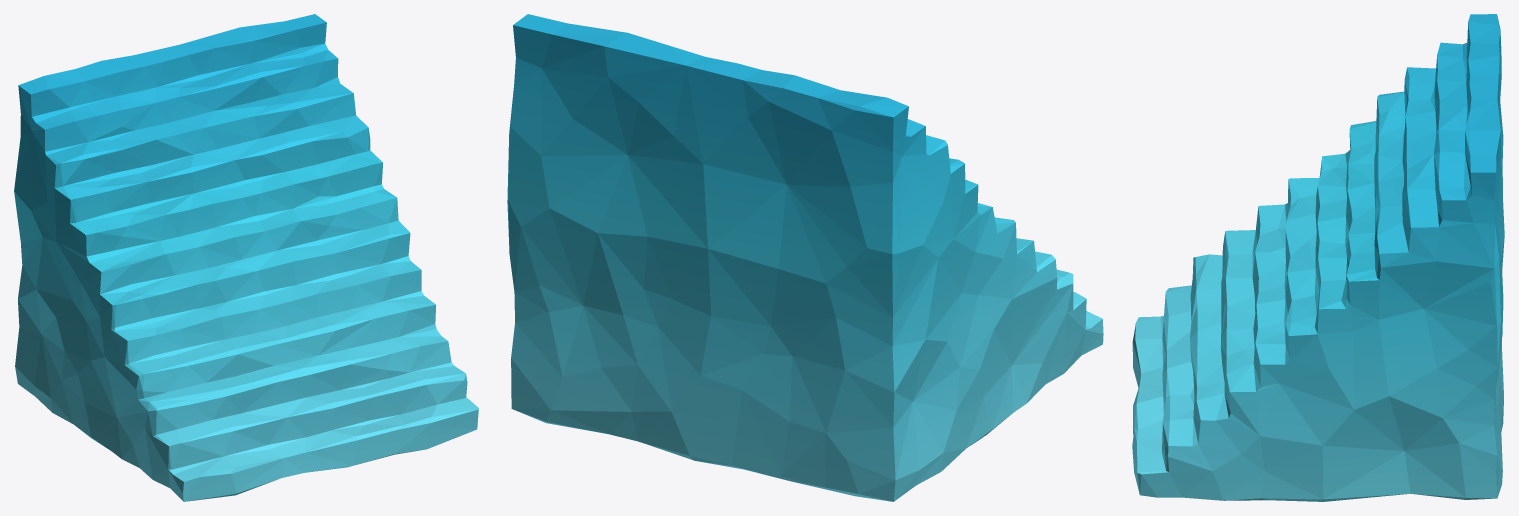
Rendered from stairs_001.fbx.
The picture shows the model from 3 angles, left to right: view 1: azimuth 30°, elevation 25°; view 2: azimuth 150°, elevation 25°; view 3: azimuth 270°, elevation 25°; orthographic projection. The views are drawn at different scales.
Parts seen in each view (by area): view 1: stairs_001; view 2: stairs_001; view 3: stairs_001.
Boxes of the visible parts, x1=… form: stairs_001: x1=14, y1=14, x2=478, y2=501; stairs_001: x1=507, y1=14, x2=1103, y2=501; stairs_001: x1=1132, y1=14, x2=1504, y2=501.
Size of the model in its own units: 411 by 394 by 392.
